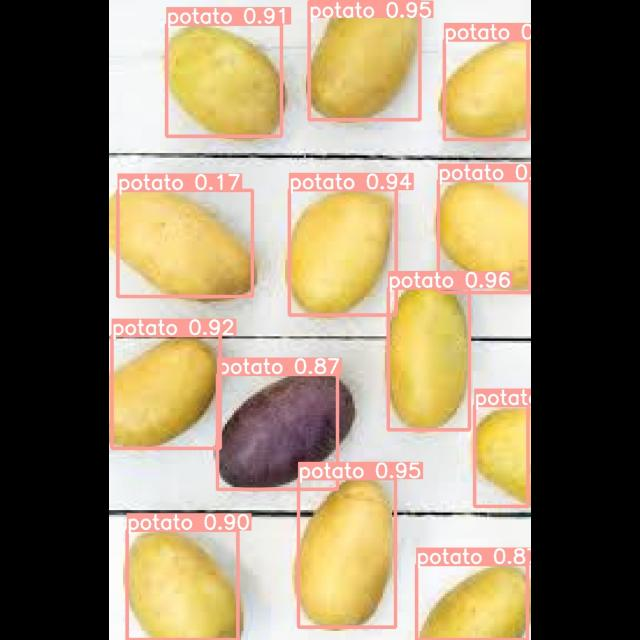Defected potato: (217, 375, 337, 489)
Potato: (299, 479, 395, 627), (117, 190, 251, 296), (290, 190, 396, 314), (309, 1, 419, 119), (167, 24, 281, 136), (127, 530, 237, 640), (112, 336, 220, 448), (388, 288, 469, 429), (438, 180, 530, 292), (417, 564, 527, 640), (444, 40, 528, 138), (474, 406, 528, 506)
